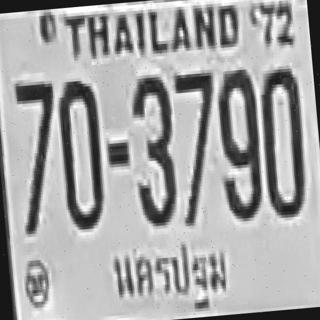N00: (50, 65, 110, 237), (258, 56, 312, 222)
N03: (122, 65, 188, 243)
N07: (8, 66, 68, 241), (170, 60, 229, 235)
N09: (216, 61, 267, 223)
P28: (100, 220, 240, 320)
